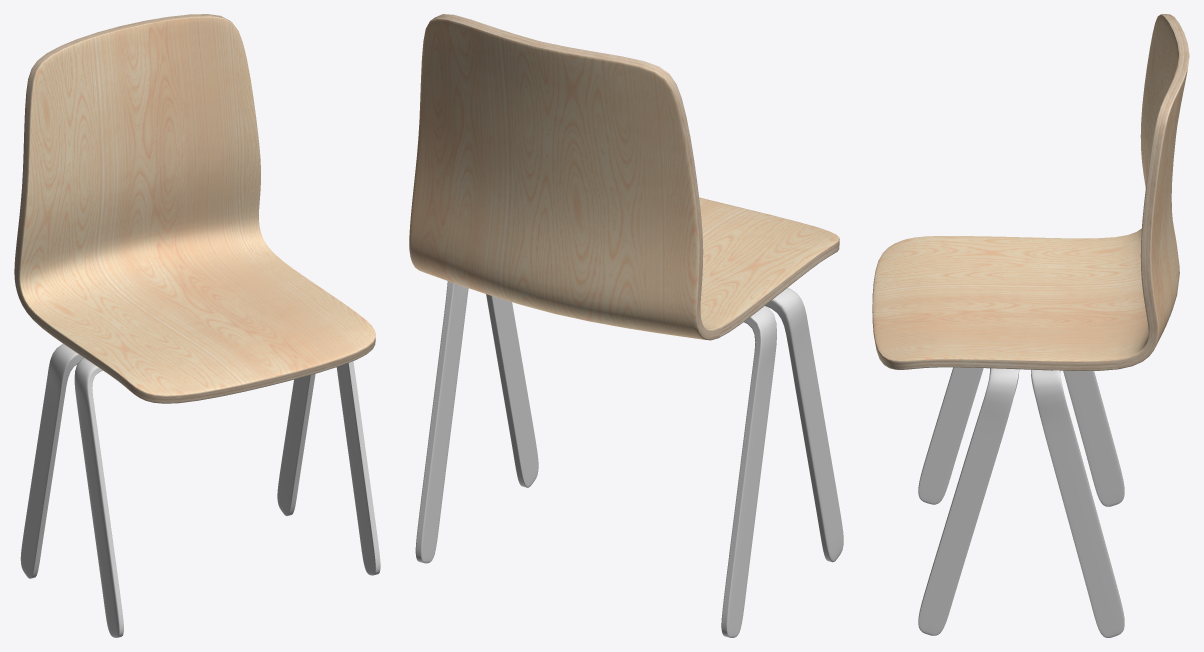
The model's file is inwood_chair.gltf.
3 renders of one model, left to right at view 1: azimuth 30°, elevation 25°; view 2: azimuth 150°, elevation 25°; view 3: azimuth 270°, elevation 25°, orthographic. The views are drawn at different scales.
Visible parts, largest first — view 1: inwood2; view 2: inwood2; view 3: inwood2.
Boxes of the visible parts, left/top/right/bottom form: inwood2: left=14, top=14, right=380, bottom=637; inwood2: left=409, top=14, right=843, bottom=637; inwood2: left=872, top=14, right=1189, bottom=637.
Bounding box in the file's own units: 0.3055 × 0.5468 × 0.3043.
Materials: 1 (1 with a texture image).
